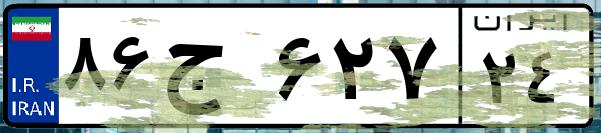2: (330, 28, 385, 110), (475, 38, 525, 113)
4: (525, 38, 570, 115)
6: (270, 28, 330, 110), (110, 28, 158, 98)
7: (385, 28, 445, 110)
8: (57, 26, 110, 100)
ج: (158, 20, 270, 120)
